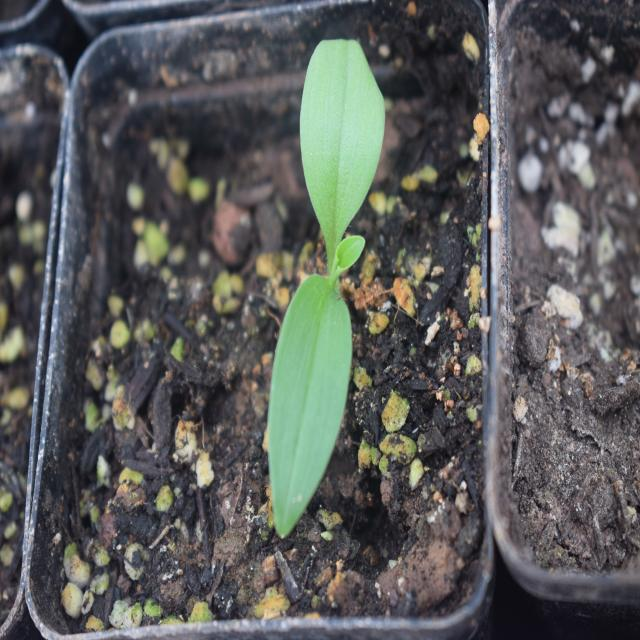Common Dayflower: (271, 46, 393, 534)
